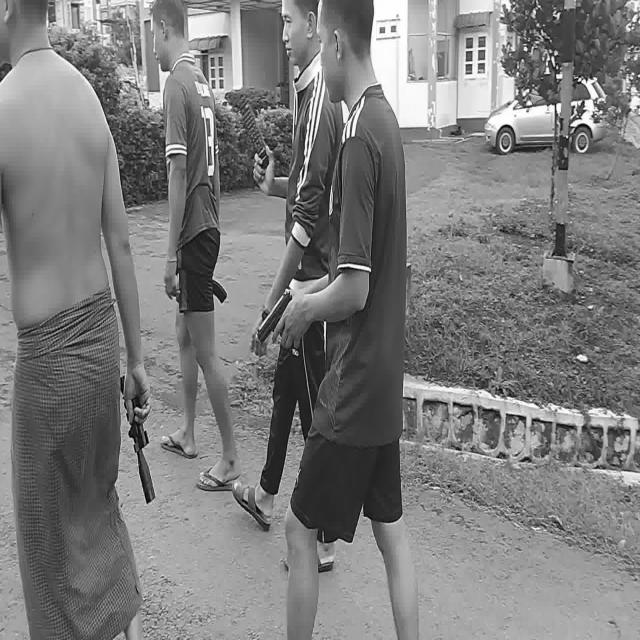gun: (257, 290, 292, 338)
